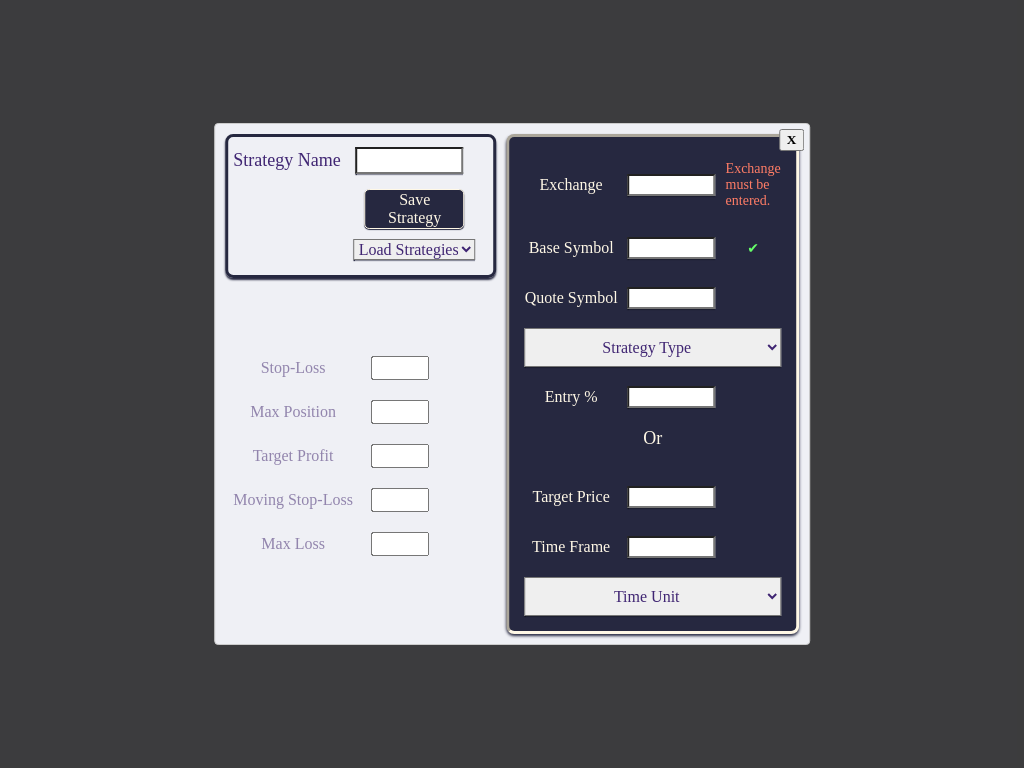
Test: dynamic select related behavior › should display message on success of load strategy request
Select "MockStrategy1" in the dropdown with test id "loadStrategiesSelect" at (415, 250), box [354,239,476,260]
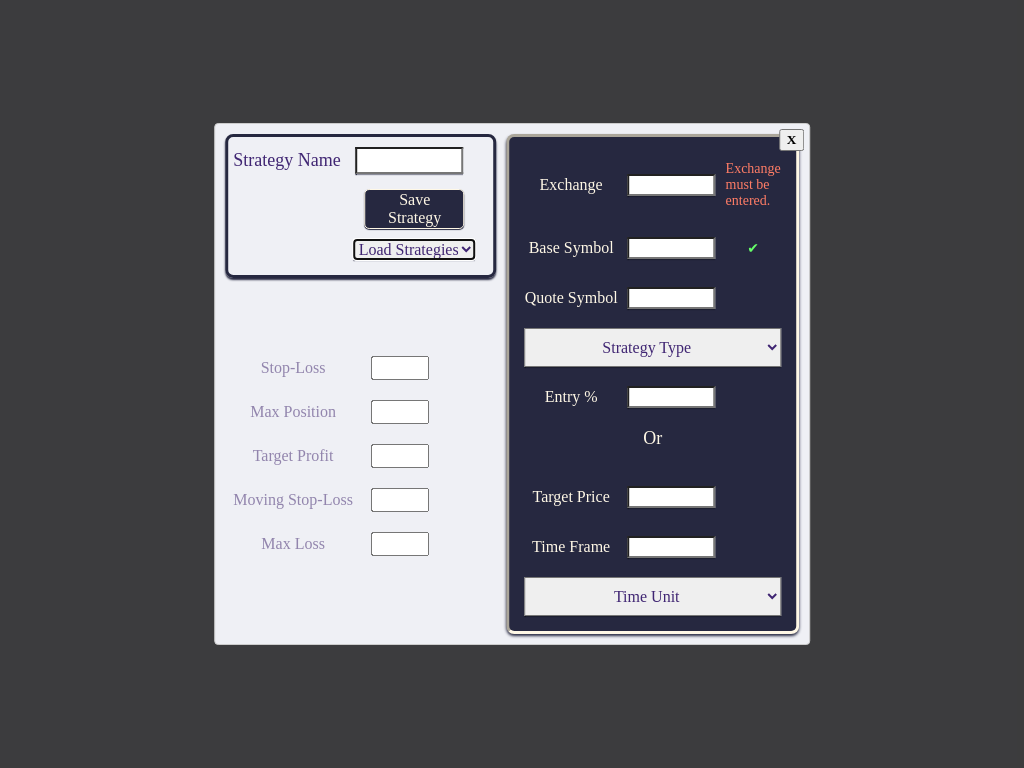
Select "MockStrategy1" in the dropdown with test id "loadStrategiesSelect" at (415, 250), box [354,239,476,260]
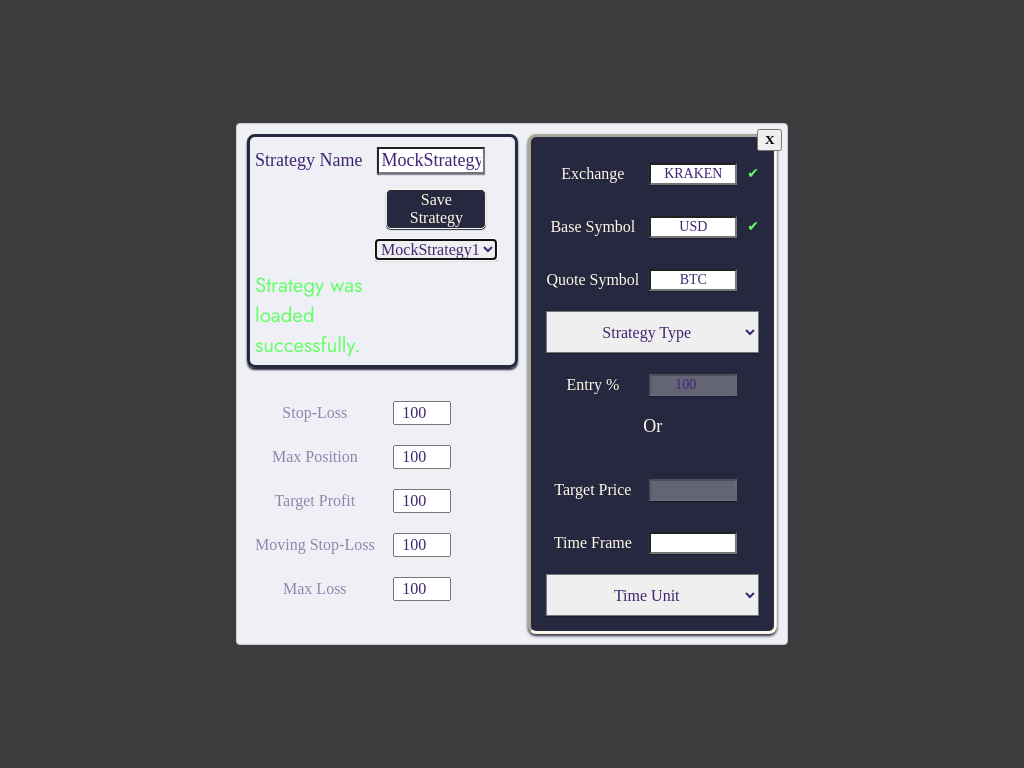
Expected: the text with test id "loadStrategyResponse" reads "Strategy was loaded successfully.", [255,270,362,360]
